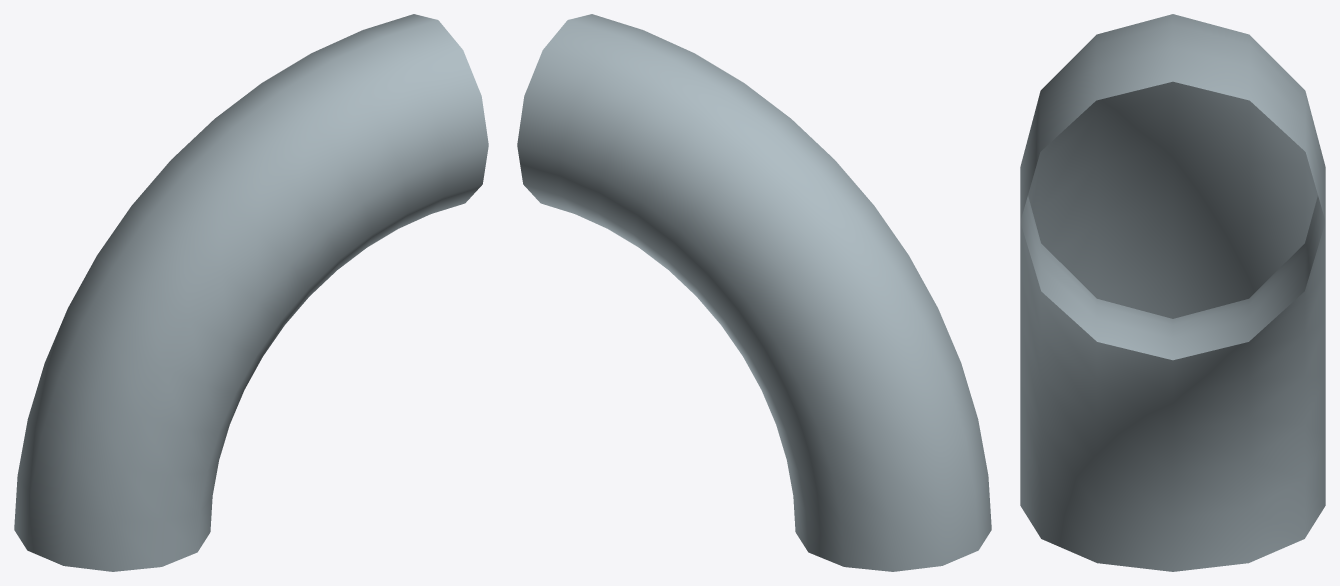
The model's file is curva.gltf.
The picture shows the model from 3 angles, left to right: view 1: azimuth 30°, elevation 25°; view 2: azimuth 150°, elevation 25°; view 3: azimuth 270°, elevation 25°; orthographic projection. The views are drawn at different scales.
Visible parts, largest first — view 1: curva; view 2: curva; view 3: curva.
Part boxes in pixels (x1,y1,x2,y2): curva: (14,14,488,571); curva: (517,14,991,571); curva: (1020,14,1325,571).
Bounding box in the file's own units: 0.4016 × 0.4016 × 0.165.
